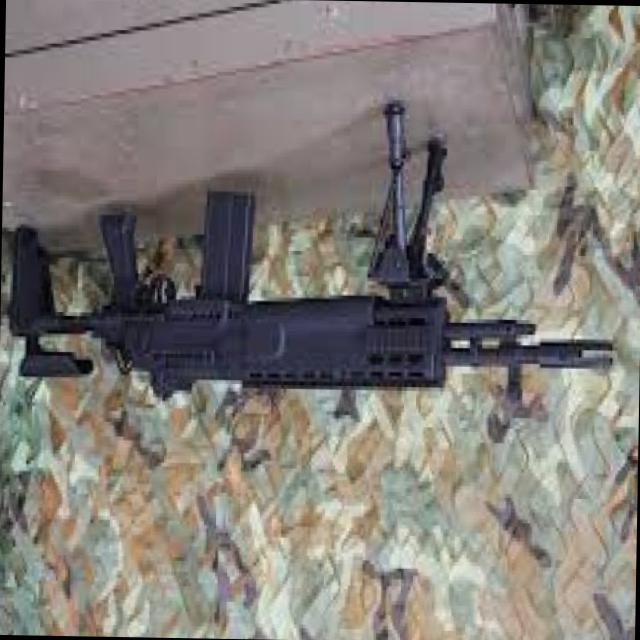Gun: (0, 179, 623, 490)
